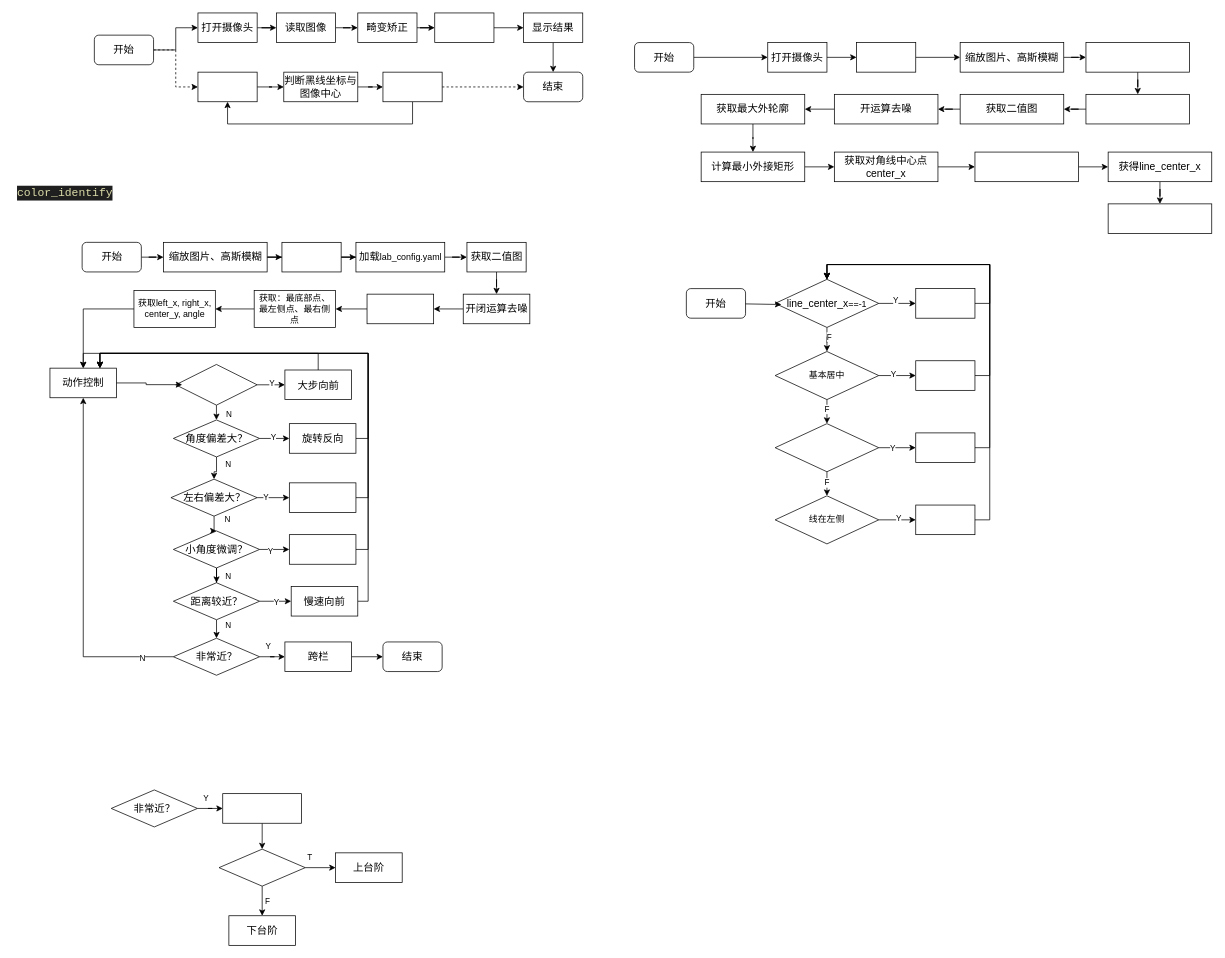
Some shapes in this 1225 by 958 pixel diagram are drawn without their labels. Each missing label, with the centre of its shape:
"BGR转LAB" goes at pixel 1137 109.
"center_x加权累加" goes at pixel 1026 166.
"run()图像处理" goes at pixel 464 27.
"sleep(0.01)" goes at pixel 945 303.
"strp_up ？" goes at pixel 261 867.
"前进" goes at pixel 945 375.
"右转" goes at pixel 945 447.
"小幅旋转" goes at pixel 322 549.
"左右平移" goes at pixel 322 497.
"左转" goes at pixel 945 519.
"往前小幅走一步" goes at pixel 262 808.
"执行动作组" goes at pixel 412 86.
"线在右侧" goes at pixel 826 447.
"绘制外接矩形、加权中心" goes at pixel 1159 218.
"获取面积最大的外轮廓" goes at pixel 400 308.
"读取 line_center_x" goes at pixel 227 86.
"距离很远？" goes at pixel 216 384.
"转换成LAB颜色空间" goes at pixel 311 257.
"选取颜色" goes at pixel 886 57.
"遍历ROI（从上到下）" goes at pixel 1137 57.
